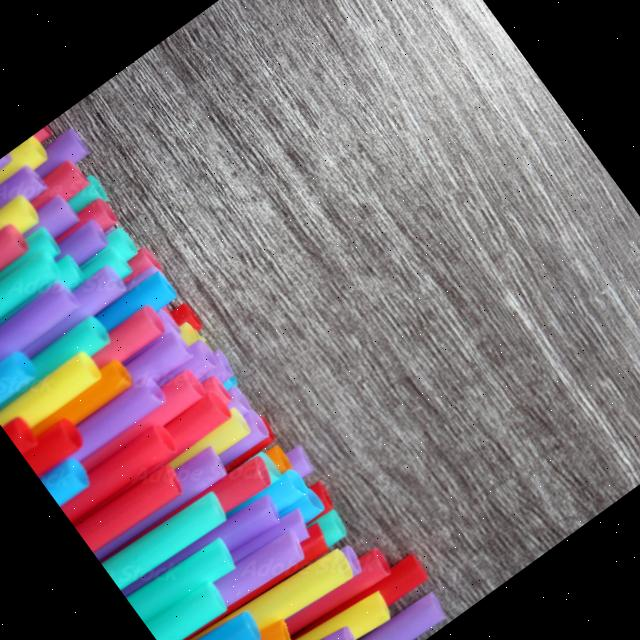plastic: (96, 469, 248, 599)
